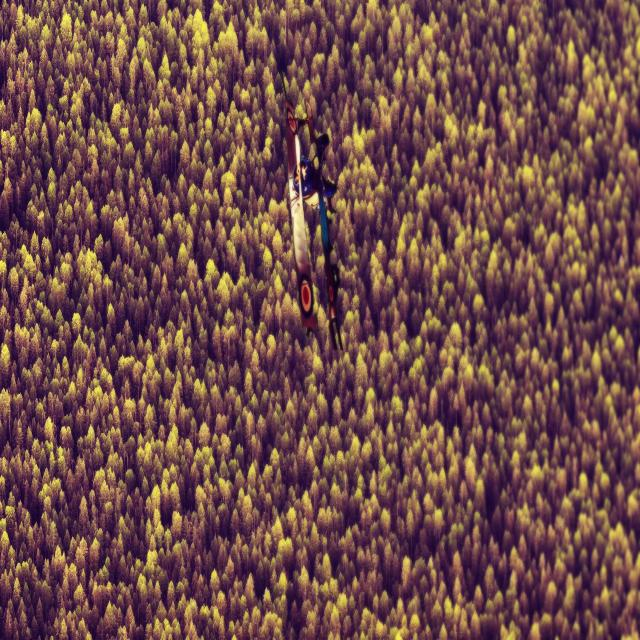airplane: (278, 69, 343, 352)
